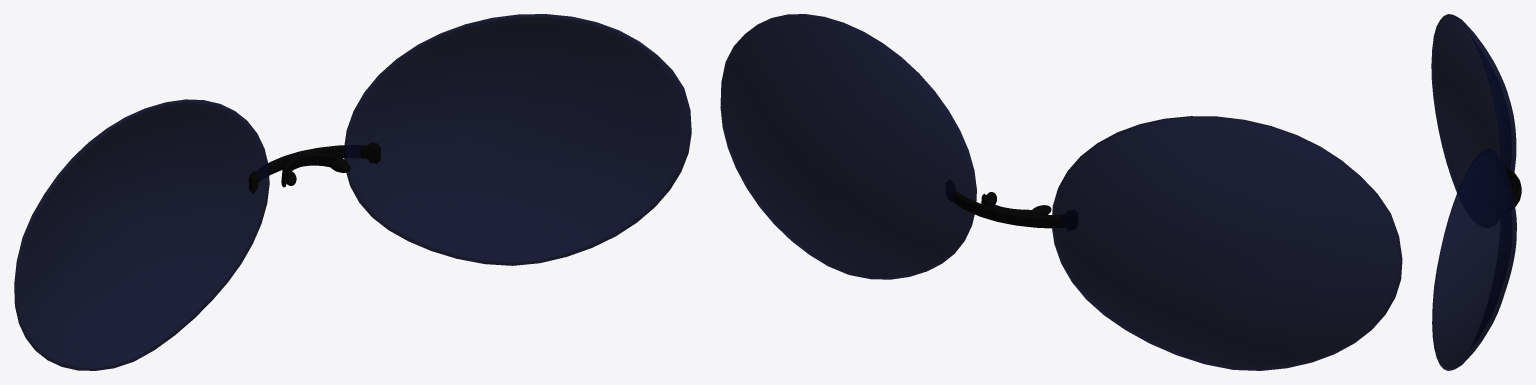
The picture shows the model from 3 angles, left to right: view 1: azimuth 30°, elevation 25°; view 2: azimuth 150°, elevation 25°; view 3: azimuth 270°, elevation 25°; orthographic projection. The views are drawn at different scales.
Visible parts, largest first — view 1: 1; view 2: 1; view 3: 1.
Part boxes in pixels (x1,y1,x2,y2): 1: [14, 14, 691, 370]; 1: [720, 14, 1402, 370]; 1: [1431, 14, 1521, 370].
Size of the model in its own units: 12.05 by 4.28 by 1.85.
